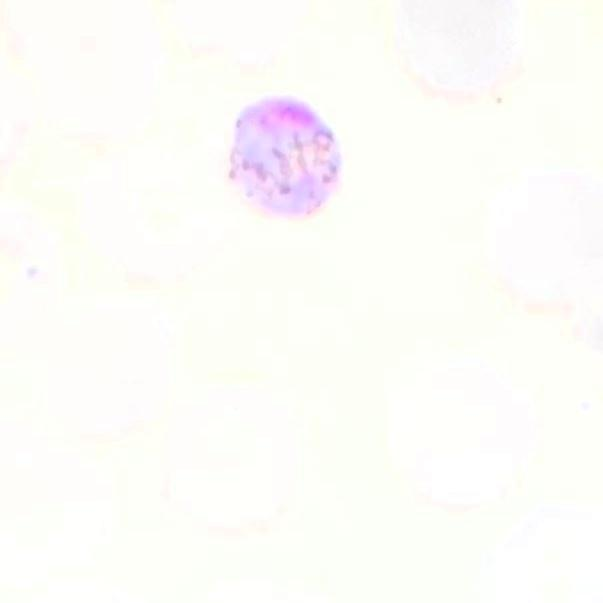Infected: (229, 98, 342, 215)
